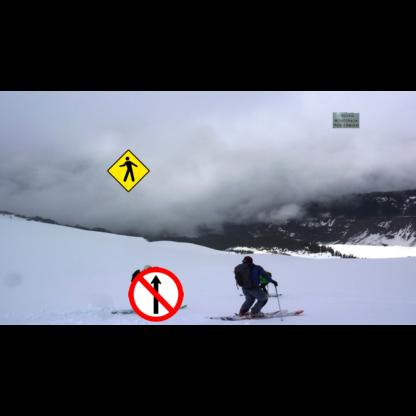A-32a: (107, 149, 150, 192)
I-E: (333, 112, 359, 128)
R-3: (128, 267, 184, 322)
